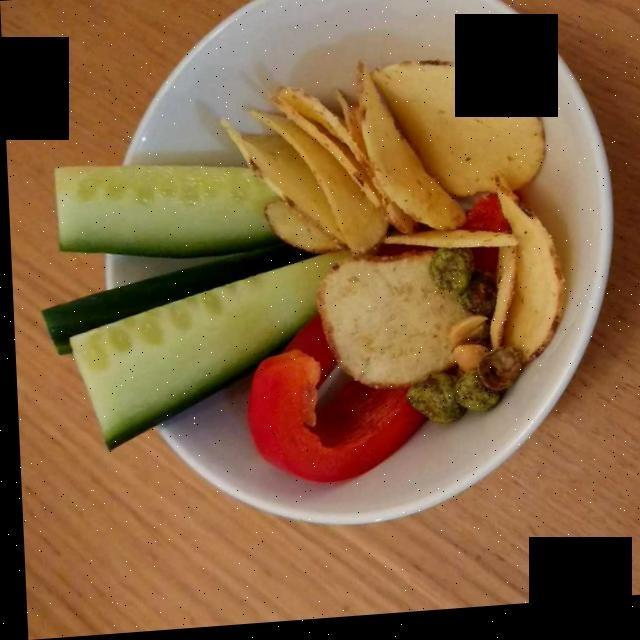bell-pepper: (246, 354, 415, 485)
crisps: (237, 53, 559, 383)
cucumber: (35, 173, 333, 451)
mixed-nuts: (416, 268, 517, 428)
